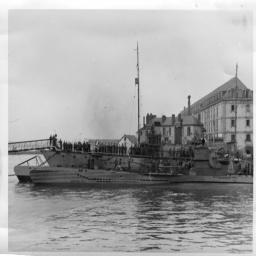submarine: (31, 146, 255, 192)
